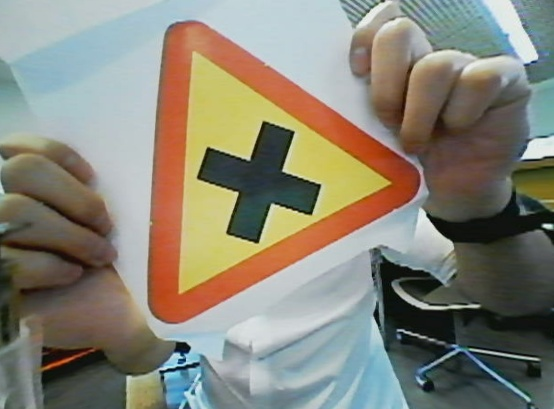junction: (136, 19, 419, 336)
